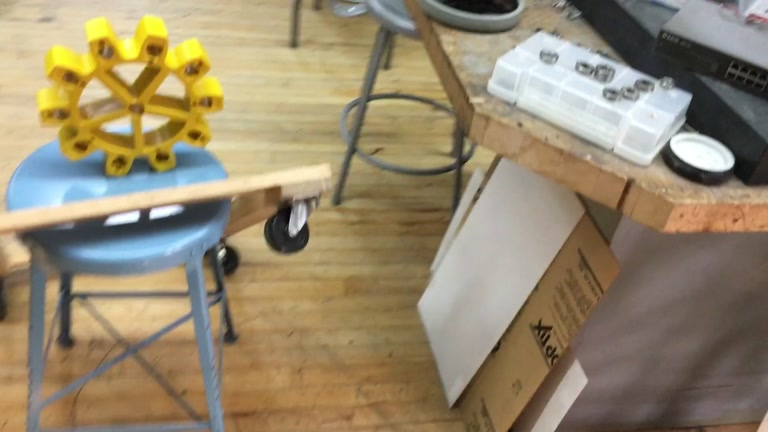gear: (36, 19, 224, 177)
